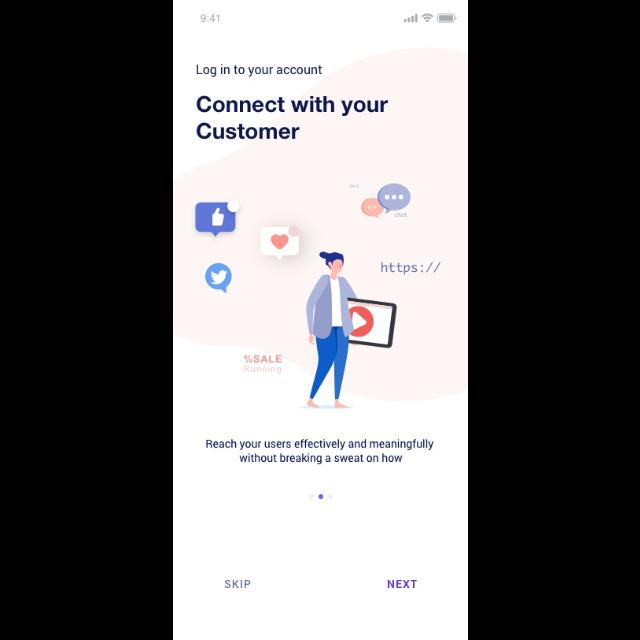image: (195, 183, 441, 409)
pageindicator: (308, 494, 334, 500)
text: (196, 96, 388, 140), (205, 439, 433, 465), (196, 65, 322, 79), (388, 580, 417, 588), (224, 580, 250, 588)
uppertaskbar: (200, 13, 456, 24)
